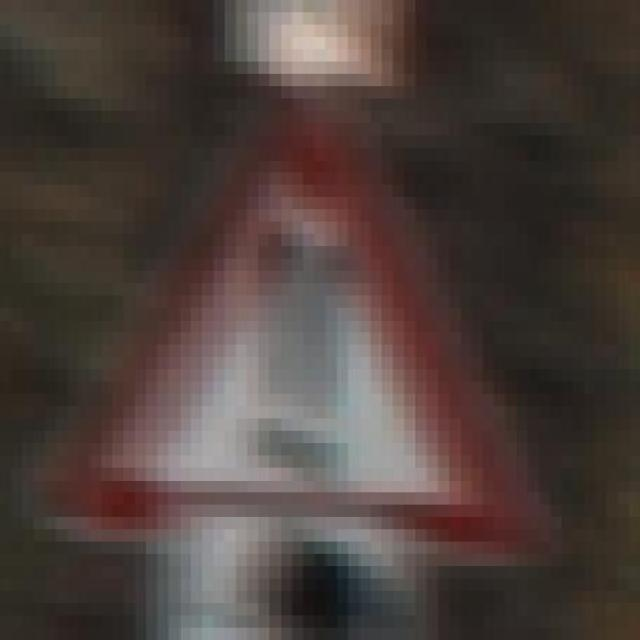Attention Please-: (44, 111, 562, 578)
